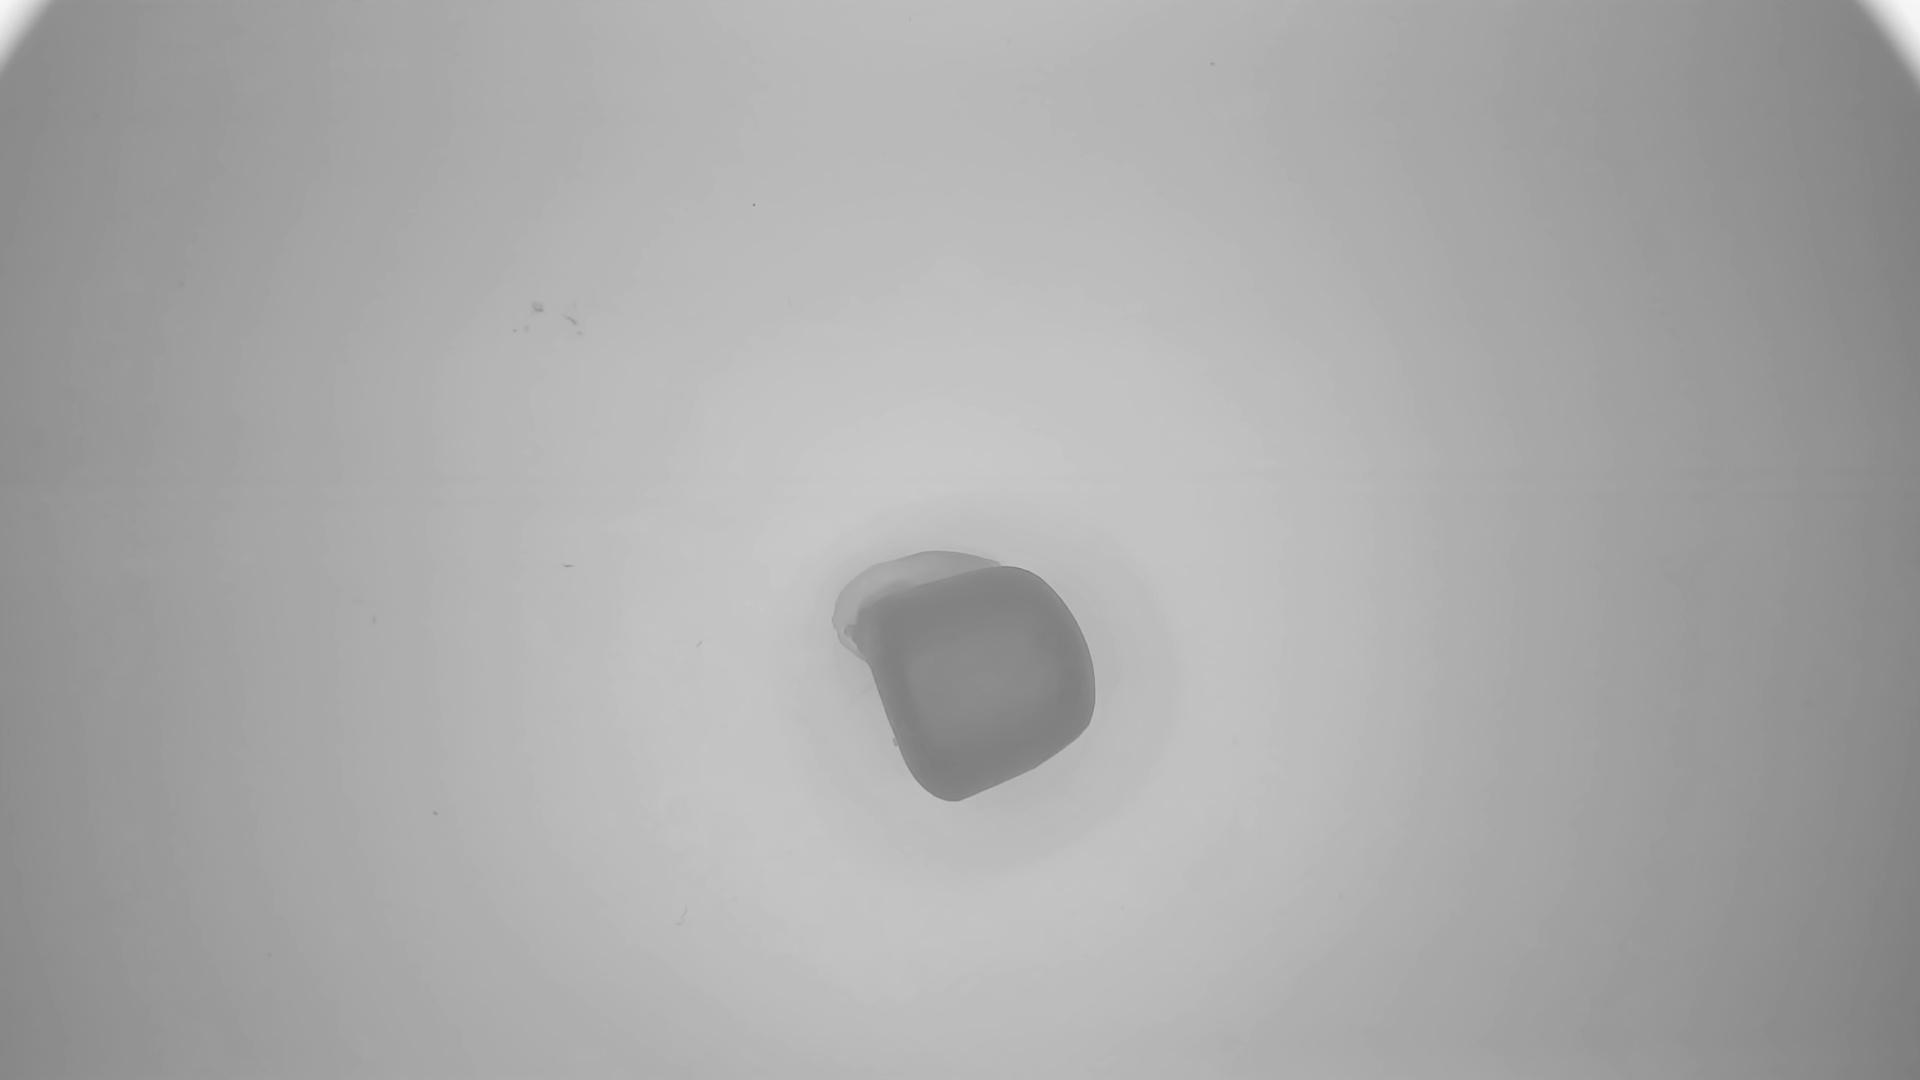abnormal: (829, 549, 1101, 808)
